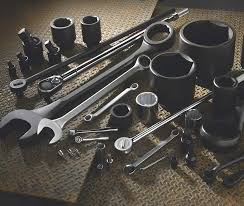Wrench: (1, 12, 186, 155), (25, 46, 158, 153), (112, 122, 186, 180)
